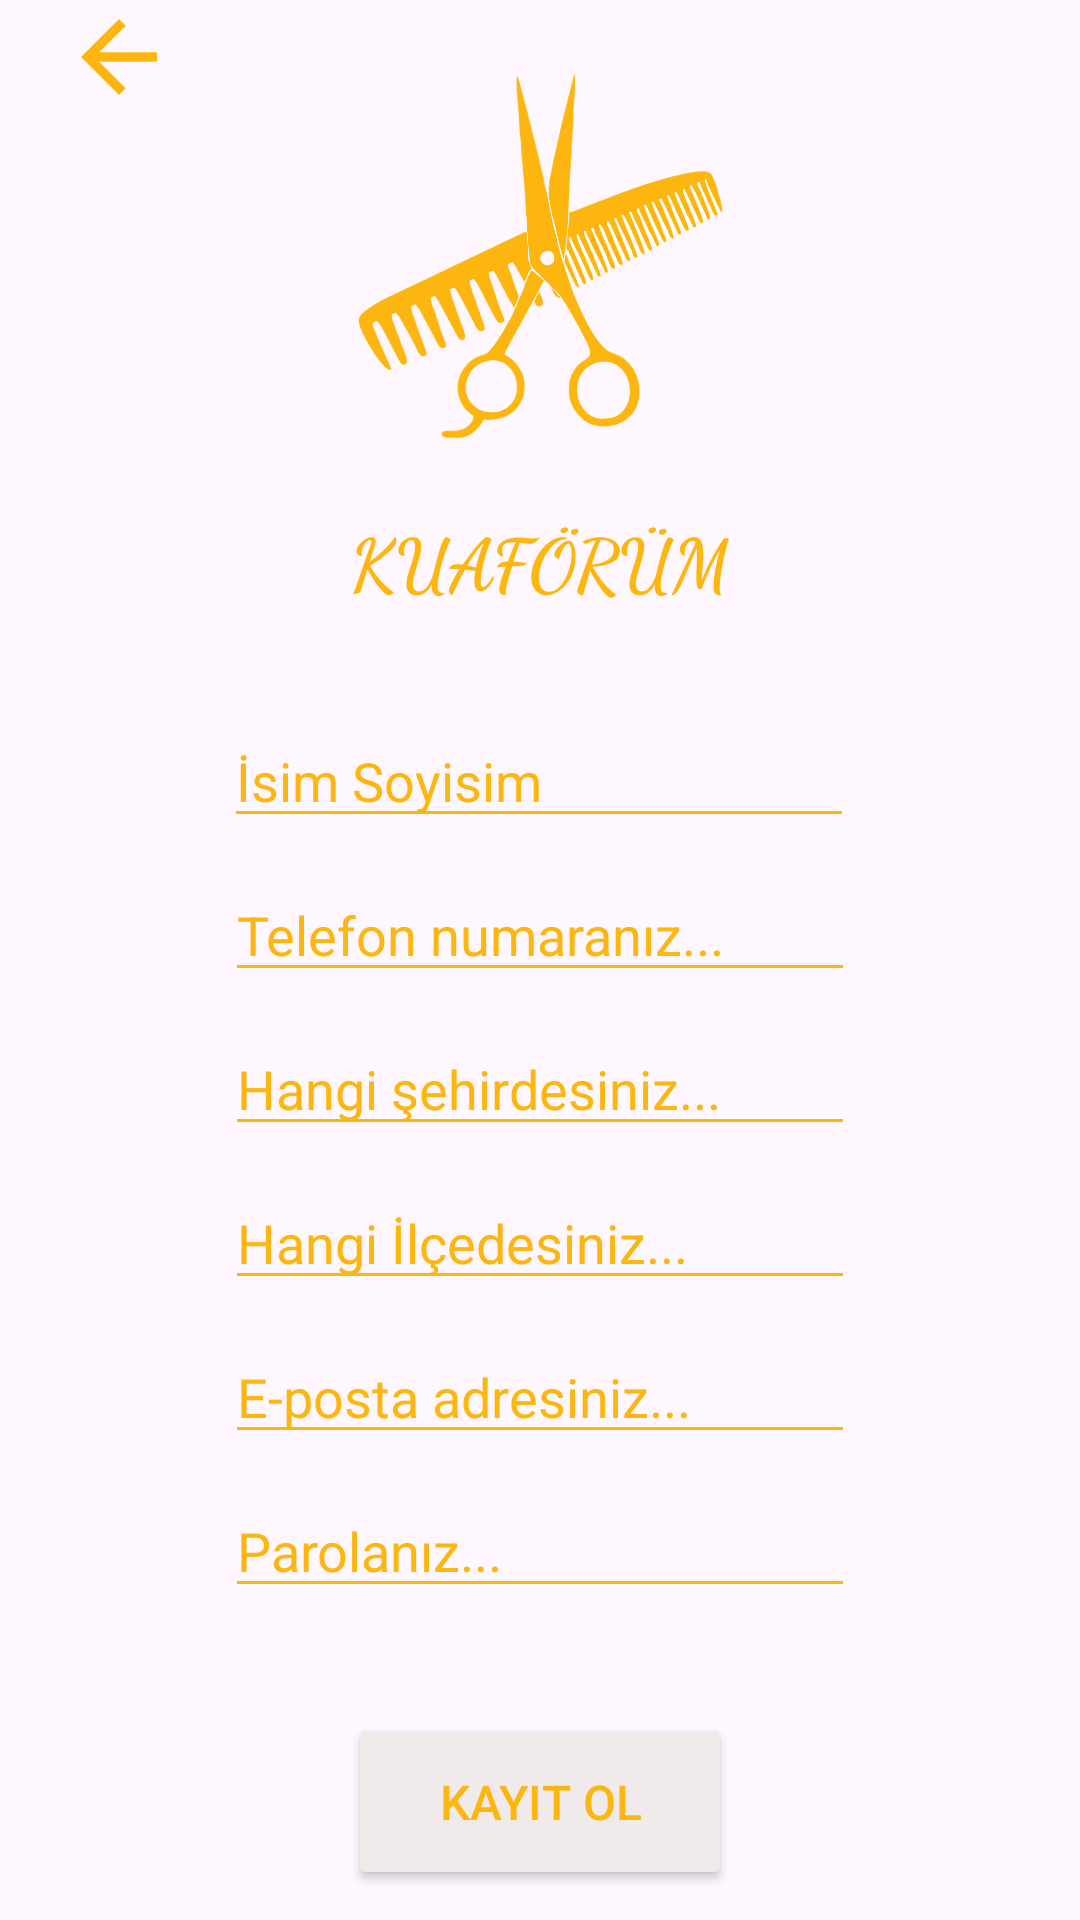

Named icons in this screenshot (1080px x 1920px) and their centers, point (x, y):
arrow back: point (119, 57)
